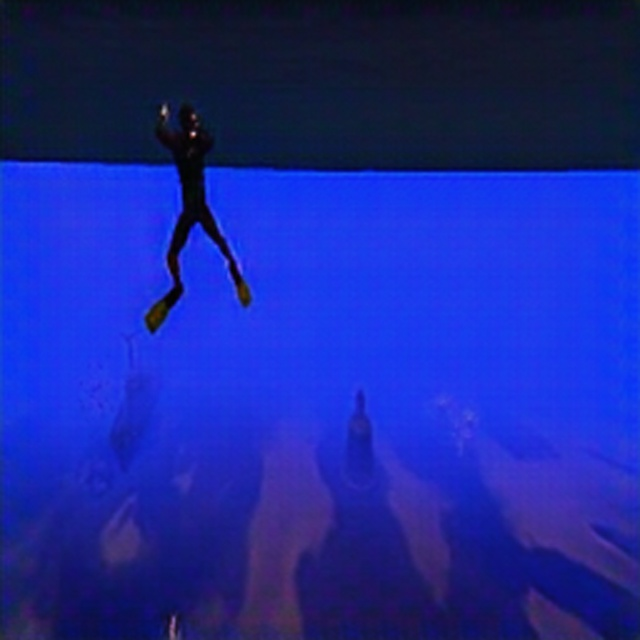diver: (152, 100, 252, 309)
